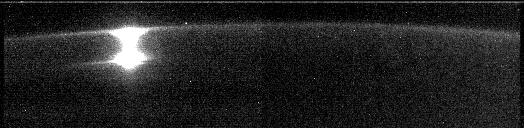positive: (110, 26, 148, 51)
